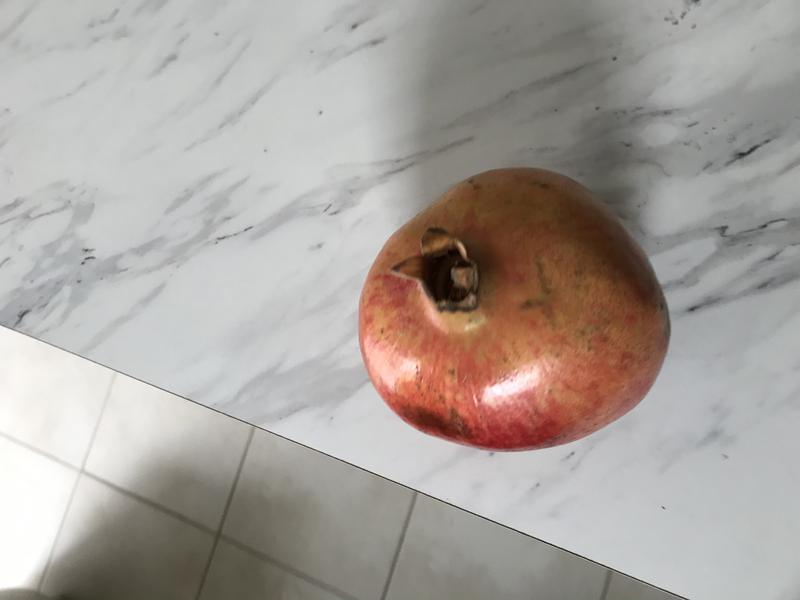pomegranate: (345, 157, 682, 463)
